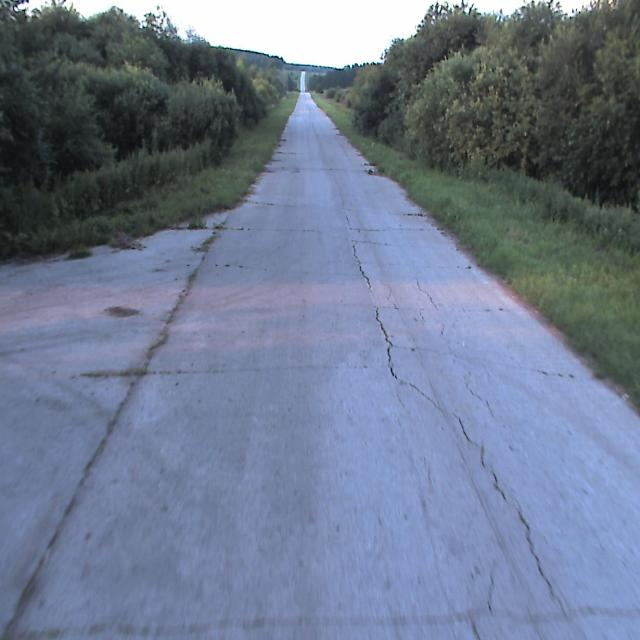road: (0, 70, 639, 639)
